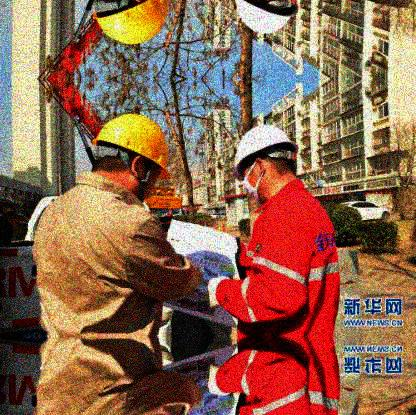helmet: (94, 111, 176, 209), (231, 124, 301, 210)
